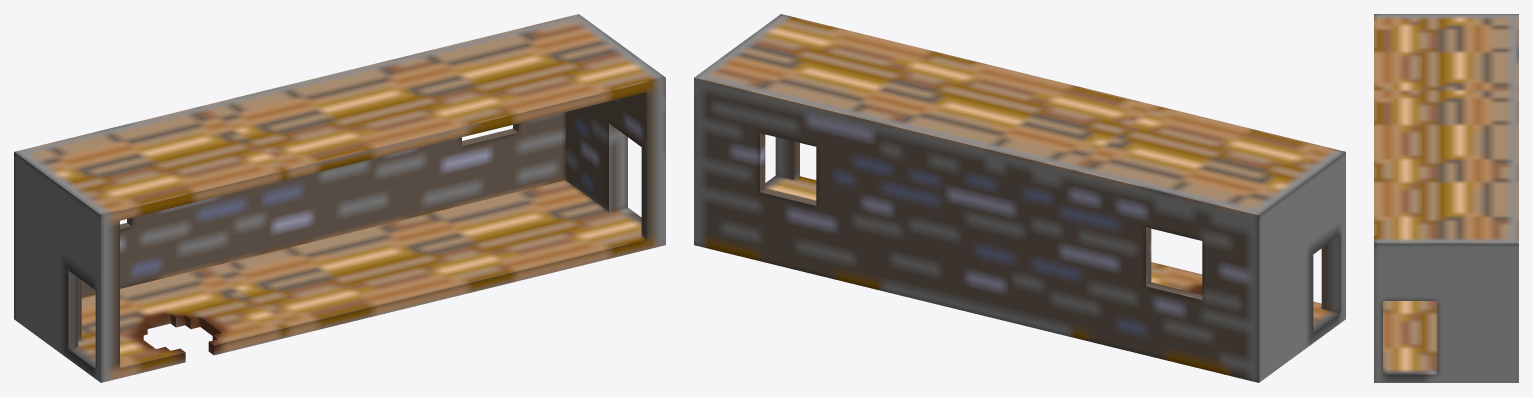
File: Corridor-1.fbx
3 renders of one model, left to right at view 1: azimuth 30°, elevation 25°; view 2: azimuth 150°, elevation 25°; view 3: azimuth 270°, elevation 25°, orthographic. The views are drawn at different scales.
Visible parts, largest first — view 1: Untitled; view 2: Untitled; view 3: Untitled.
Part boxes in pixels (left/top/right/bottom): Untitled: left=14, top=14, right=665, bottom=382; Untitled: left=694, top=14, right=1345, bottom=382; Untitled: left=1374, top=14, right=1518, bottom=382.
Size of the model in its own units: 600 by 170 by 160.
Materials: 1 (1 with a texture image).
